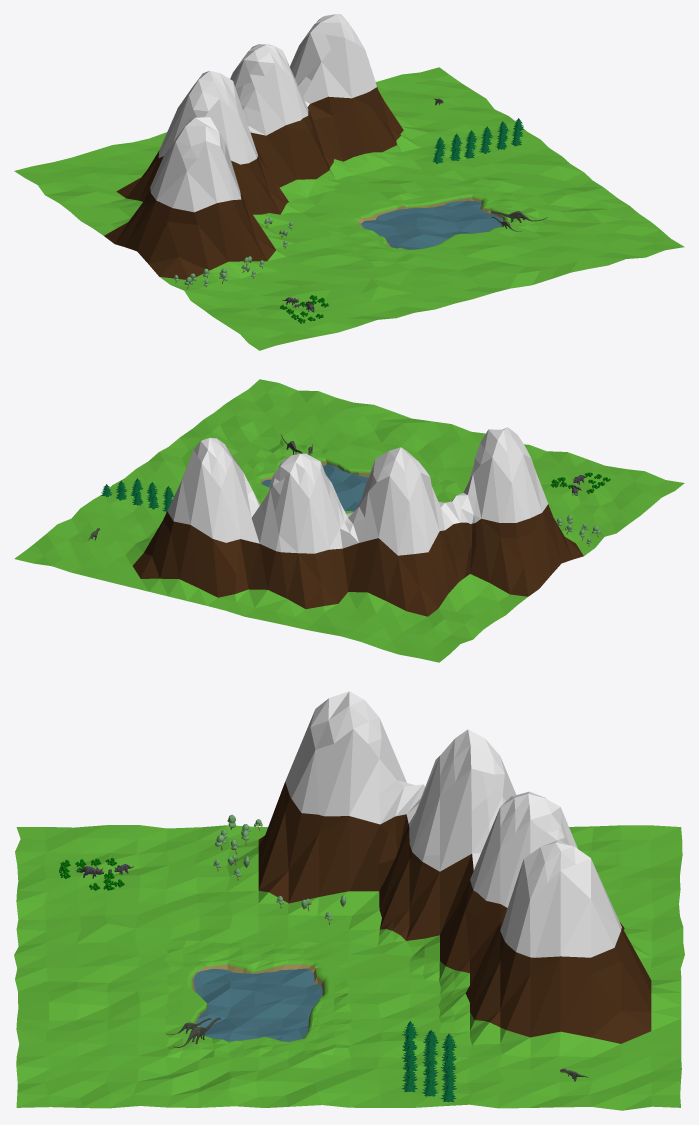
Rendered from past_1000.fbx.
3 renders of one model, top to bottom at view 1: azimuth 30°, elevation 25°; view 2: azimuth 150°, elevation 25°; view 3: azimuth 270°, elevation 25°, orthographic. The views are drawn at different scales.
Parts seen in each view (by area): view 1: Triceratops_Cylinder.001; view 2: Triceratops_Cylinder.001; view 3: Triceratops_Cylinder.001.
Boxes of the visible parts, <box> form: Triceratops_Cylinder.001: <box>14,14,684,350</box>; Triceratops_Cylinder.001: <box>14,379,684,662</box>; Triceratops_Cylinder.001: <box>14,691,684,1110</box>.
Size of the model in its own units: 23241 by 7635 by 23298.
